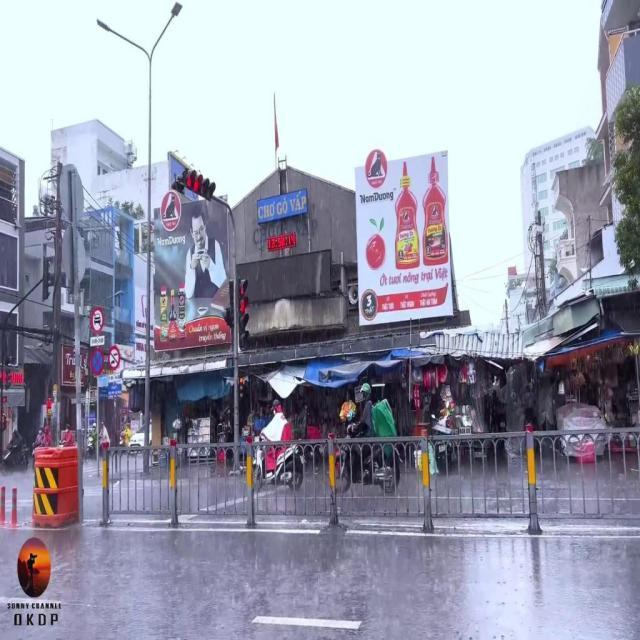103a-cam-oto: (88, 307, 104, 331)
107-cam-oto-khach-va-oto-tai: (108, 348, 120, 370)
130-cam-dung-va-do-xe: (88, 349, 104, 376)
